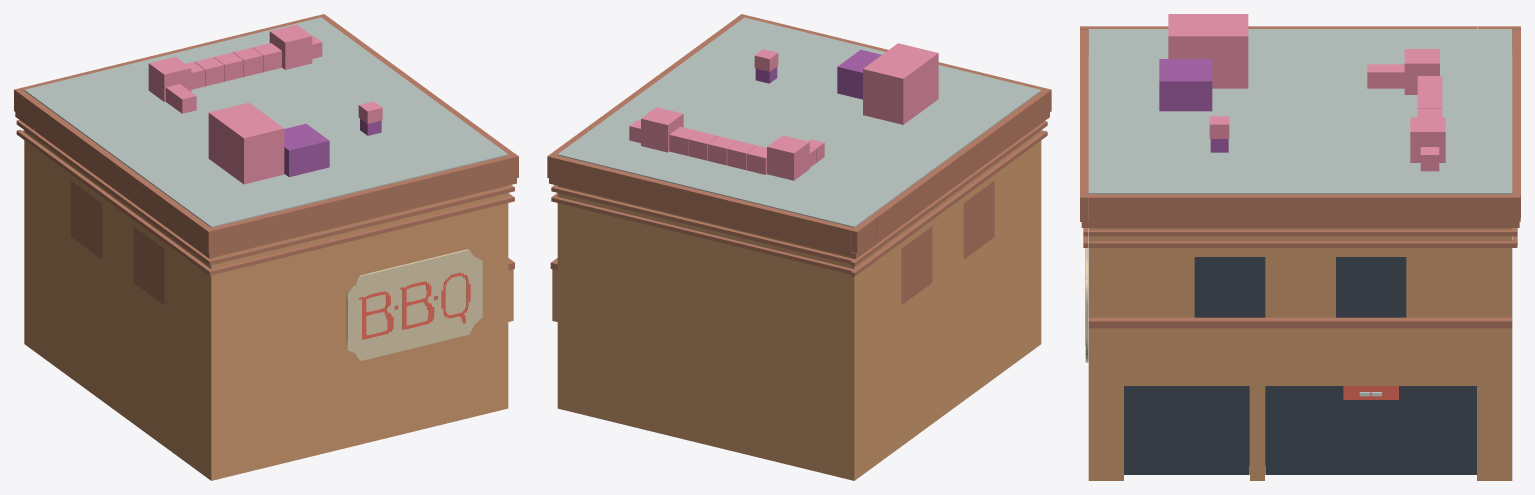
File: Building5.fbx
3 renders of one model, left to right at view 1: azimuth 30°, elevation 25°; view 2: azimuth 150°, elevation 25°; view 3: azimuth 270°, elevation 25°, orthographic. The views are drawn at different scales.
Visible parts, largest first — view 1: pCube10997, pCube10518, pCube10582, pCube10495, pCube10565, pCube10591, pCube9936, pCube10075, pCube9550, pCube10814, pCube10972, pCube10750 (+74 smaller); view 2: pCube10997, pCube10707, pCube10578, pCube10531, pCube10539, pCube9939, pCube9546, pCube10072, pCube10498, pCube10642, pCube9695, pCube10335 (+71 smaller); view 3: pCube9441, pCube10518, pCube10707, pCube10814, pCube10638, pCube10997, pCube10643, pCube10634, pCube10635, pCube10642, pCube10675, pCube10556 (+53 smaller).
Boxes of the visible parts, bbox=[...] form: pCube10997: bbox=[208, 102, 284, 184]; pCube10518: bbox=[423, 130, 518, 197]; pCube10582: bbox=[207, 184, 295, 250]; pCube10495: bbox=[369, 144, 457, 210]; pCube10565: bbox=[315, 158, 403, 224]; pCube10591: bbox=[261, 171, 349, 237]; pCube9936: bbox=[180, 345, 238, 424]; pCube10075: bbox=[180, 289, 238, 367]; pCube9550: bbox=[180, 402, 238, 480]; pCube10814: bbox=[454, 239, 514, 309]; pCube10972: bbox=[346, 265, 401, 335]; pCube10750: bbox=[400, 252, 461, 322]; pCube10997: bbox=[863, 43, 938, 124]; pCube10707: bbox=[547, 131, 640, 197]; pCube10578: bbox=[769, 184, 857, 250]; pCube10531: bbox=[715, 171, 804, 237]; pCube10539: bbox=[661, 158, 749, 224]; pCube9939: bbox=[827, 345, 885, 424]; pCube9546: bbox=[827, 402, 885, 480]; pCube10072: bbox=[827, 289, 885, 367]; pCube10498: bbox=[608, 146, 695, 210]; pCube10642: bbox=[550, 239, 611, 308]; pCube9695: bbox=[552, 292, 611, 364]; pCube10335: bbox=[825, 237, 889, 311]; pCube9441: bbox=[1159, 411, 1249, 474]; pCube10518: bbox=[1080, 163, 1159, 227]; pCube10707: bbox=[1441, 163, 1520, 227]; pCube10814: bbox=[1085, 259, 1159, 353]; pCube10638: bbox=[1300, 286, 1371, 353]; pCube10997: bbox=[1168, 14, 1248, 88]; pCube10643: bbox=[1371, 286, 1441, 353]; pCube10634: bbox=[1159, 286, 1229, 353]; pCube10635: bbox=[1230, 286, 1300, 353]; pCube10642: bbox=[1441, 289, 1512, 353]; pCube10675: bbox=[1300, 163, 1371, 227]; pCube10556: bbox=[1230, 163, 1300, 227].
Bounding box in the file's own units: 22.63 × 20.94 × 24.58.
